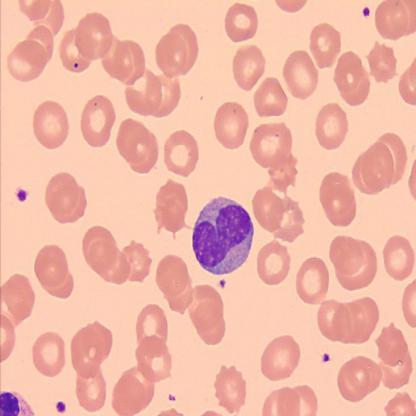Monocyte: (190, 194, 256, 276)
